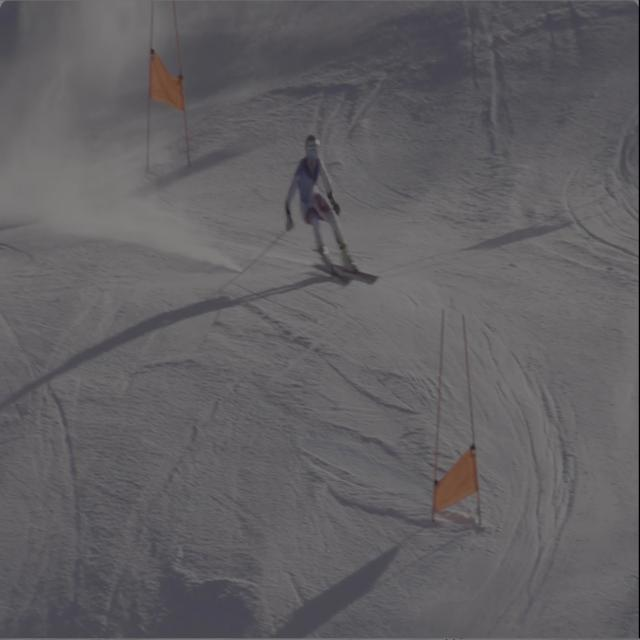gate: (167, 0, 200, 174), (459, 312, 482, 544), (135, 0, 161, 186), (429, 302, 448, 544)
